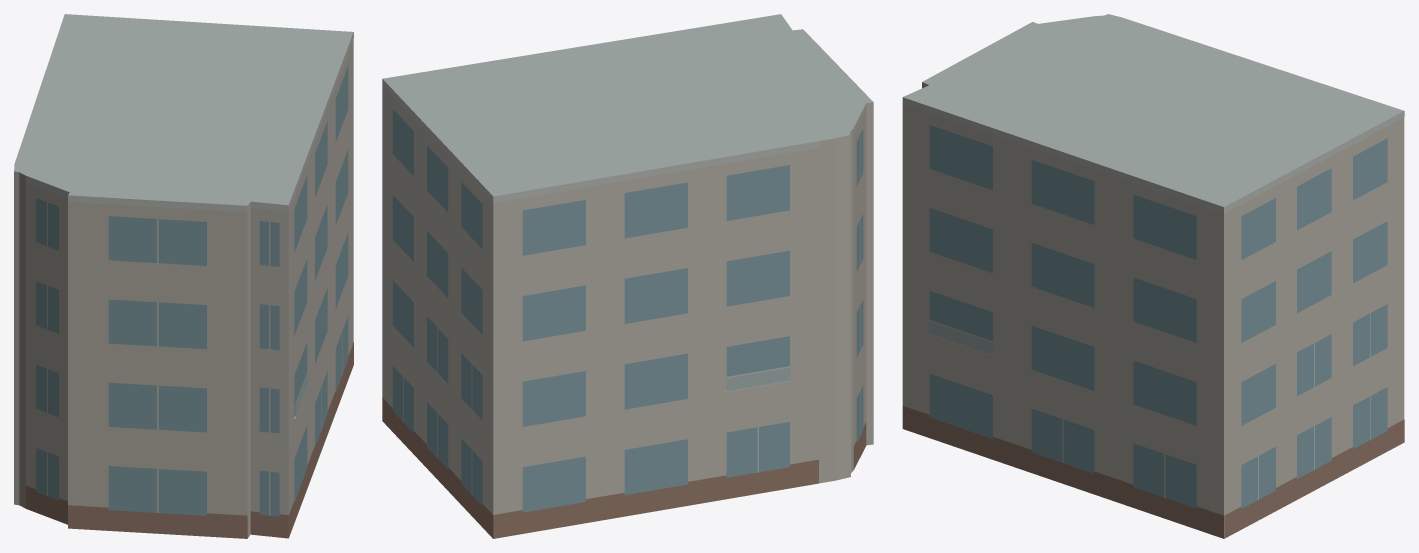
The model's file is survey-upis-32848721.glb.
3 views of the same model, side by side, from view 1: azimuth 30°, elevation 25°; view 2: azimuth 150°, elevation 25°; view 3: azimuth 270°, elevation 25° (orthographic). The views are drawn at different scales.
Visible parts, largest first — view 1: survey-upis-32848721.tmp; view 2: survey-upis-32848721.tmp; view 3: survey-upis-32848721.tmp.
Boxes of the visible parts, box(x1,y1,x2,y2) form: survey-upis-32848721.tmp: box(14, 14, 353, 538); survey-upis-32848721.tmp: box(382, 14, 873, 538); survey-upis-32848721.tmp: box(902, 14, 1404, 538).
Size of the model in its own units: 15.62 by 12.5 by 17.15.
